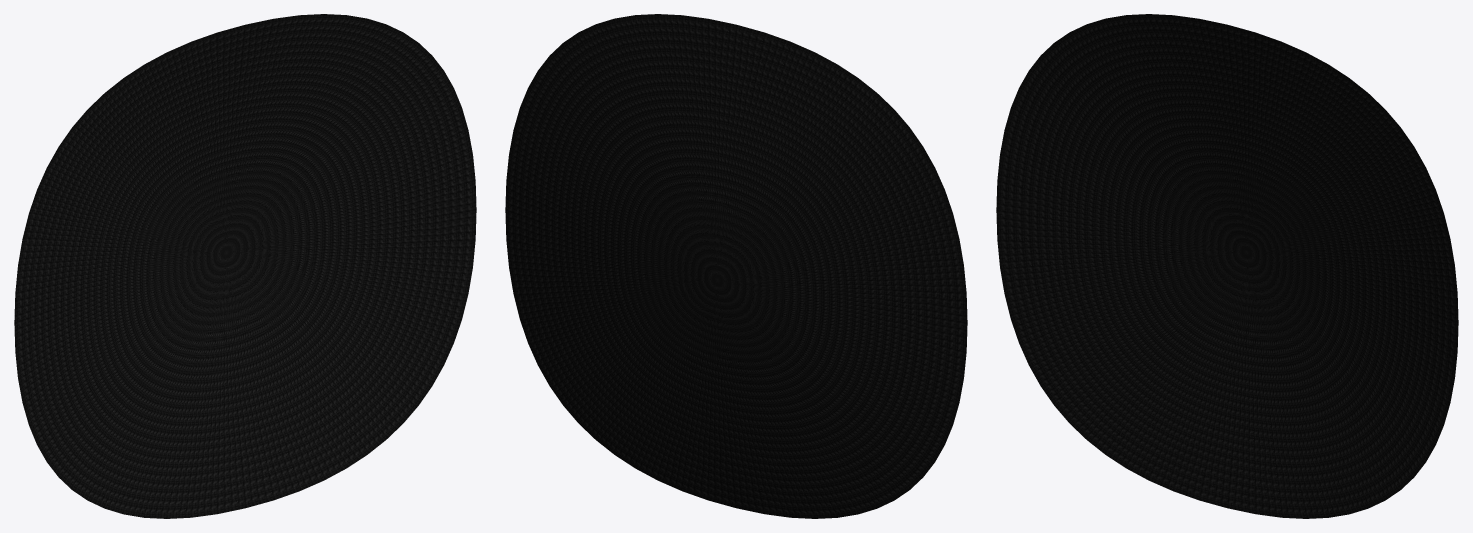
Rendered from skybox_dome.obj.
3 renders of one model, left to right at view 1: azimuth 30°, elevation 25°; view 2: azimuth 150°, elevation 25°; view 3: azimuth 330°, elevation 25°, orthographic.
Visible parts, largest first — view 1: skybox_dome_half; view 2: skybox_dome_half; view 3: skybox_dome_half.
Boxes of the visible parts, box(x1,y1,x2,y2) form: skybox_dome_half: box(14, 14, 476, 518); skybox_dome_half: box(505, 14, 967, 518); skybox_dome_half: box(996, 14, 1458, 518).
Bounding box in the file's own units: 4032 × 4032 × 288.
